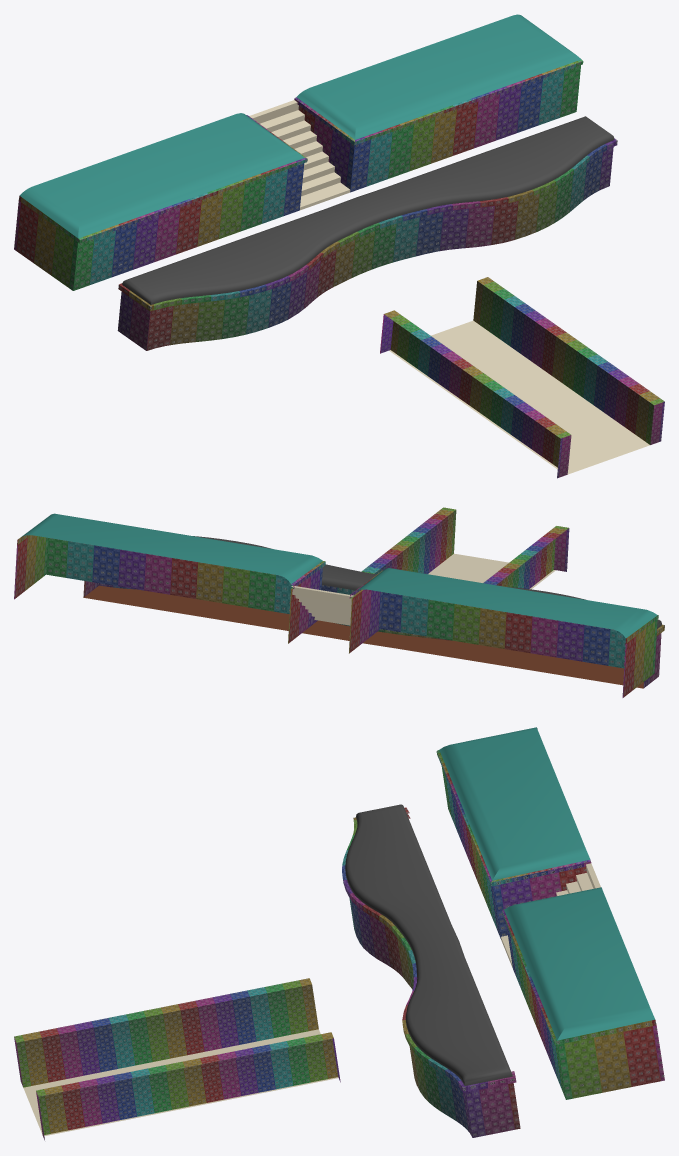
The model's file is Retaining-Wall.glb.
3 renders of one model, top to bottom at view 1: azimuth 30°, elevation 25°; view 2: azimuth 150°, elevation 25°; view 3: azimuth 270°, elevation 25°, orthographic. The views are drawn at different scales.
Visible parts, largest first — view 1: retaining_wall2, main_change3, retaining_wall1, main_change2, main_change, retaining_wall3; view 2: main_change3, retaining_wall2, retaining_wall1, main_change, retaining_wall3, main_change2; view 3: main_change, retaining_wall2, retaining_wall1, main_change3, main_change2, retaining_wall3.
Boxes of the visible parts, box(x1,y1,x2,y2) form: retaining_wall2: box(19, 14, 581, 239); main_change3: box(14, 59, 583, 290); retaining_wall1: box(119, 116, 617, 306); main_change2: box(117, 140, 617, 350); main_change: box(380, 277, 664, 478); retaining_wall3: box(389, 320, 649, 474); main_change3: box(14, 535, 658, 697); retaining_wall2: box(21, 513, 657, 638); retaining_wall1: box(83, 536, 664, 688); main_change: box(362, 507, 569, 588); retaining_wall3: box(428, 553, 555, 589); main_change2: box(83, 581, 664, 687); main_change: box(14, 978, 340, 1140); retaining_wall2: box(436, 727, 655, 1045); retaining_wall1: box(342, 804, 515, 1087); main_change3: box(436, 752, 664, 1099); main_change2: box(343, 879, 520, 1137); retaining_wall3: box(23, 1029, 338, 1136).
Size of the model in its own units: 14.17 by 4.49 by 12.91.
8 materials, 3 textured.
